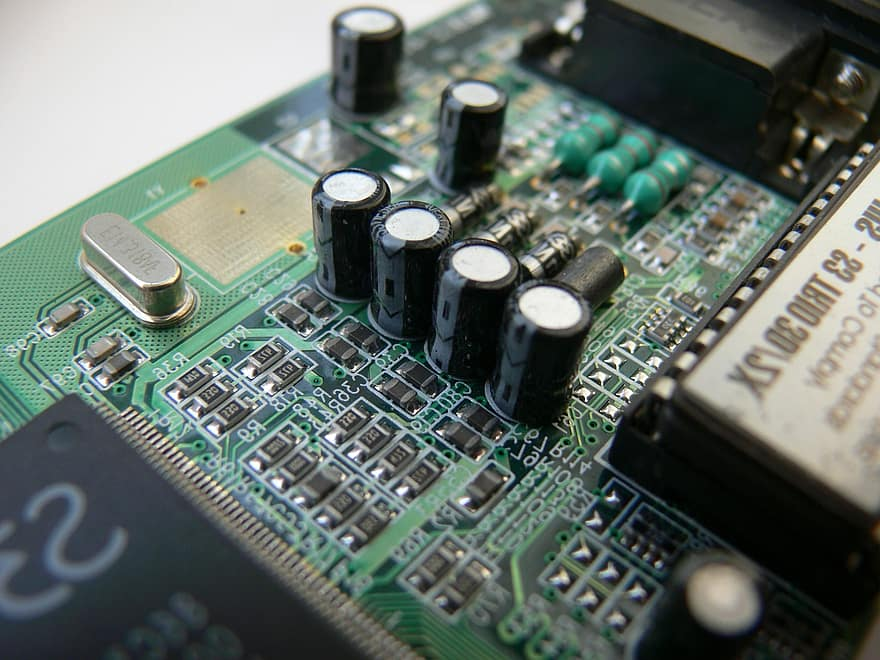capacitor: (361, 188, 453, 348), (501, 269, 585, 431), (427, 63, 510, 186)
